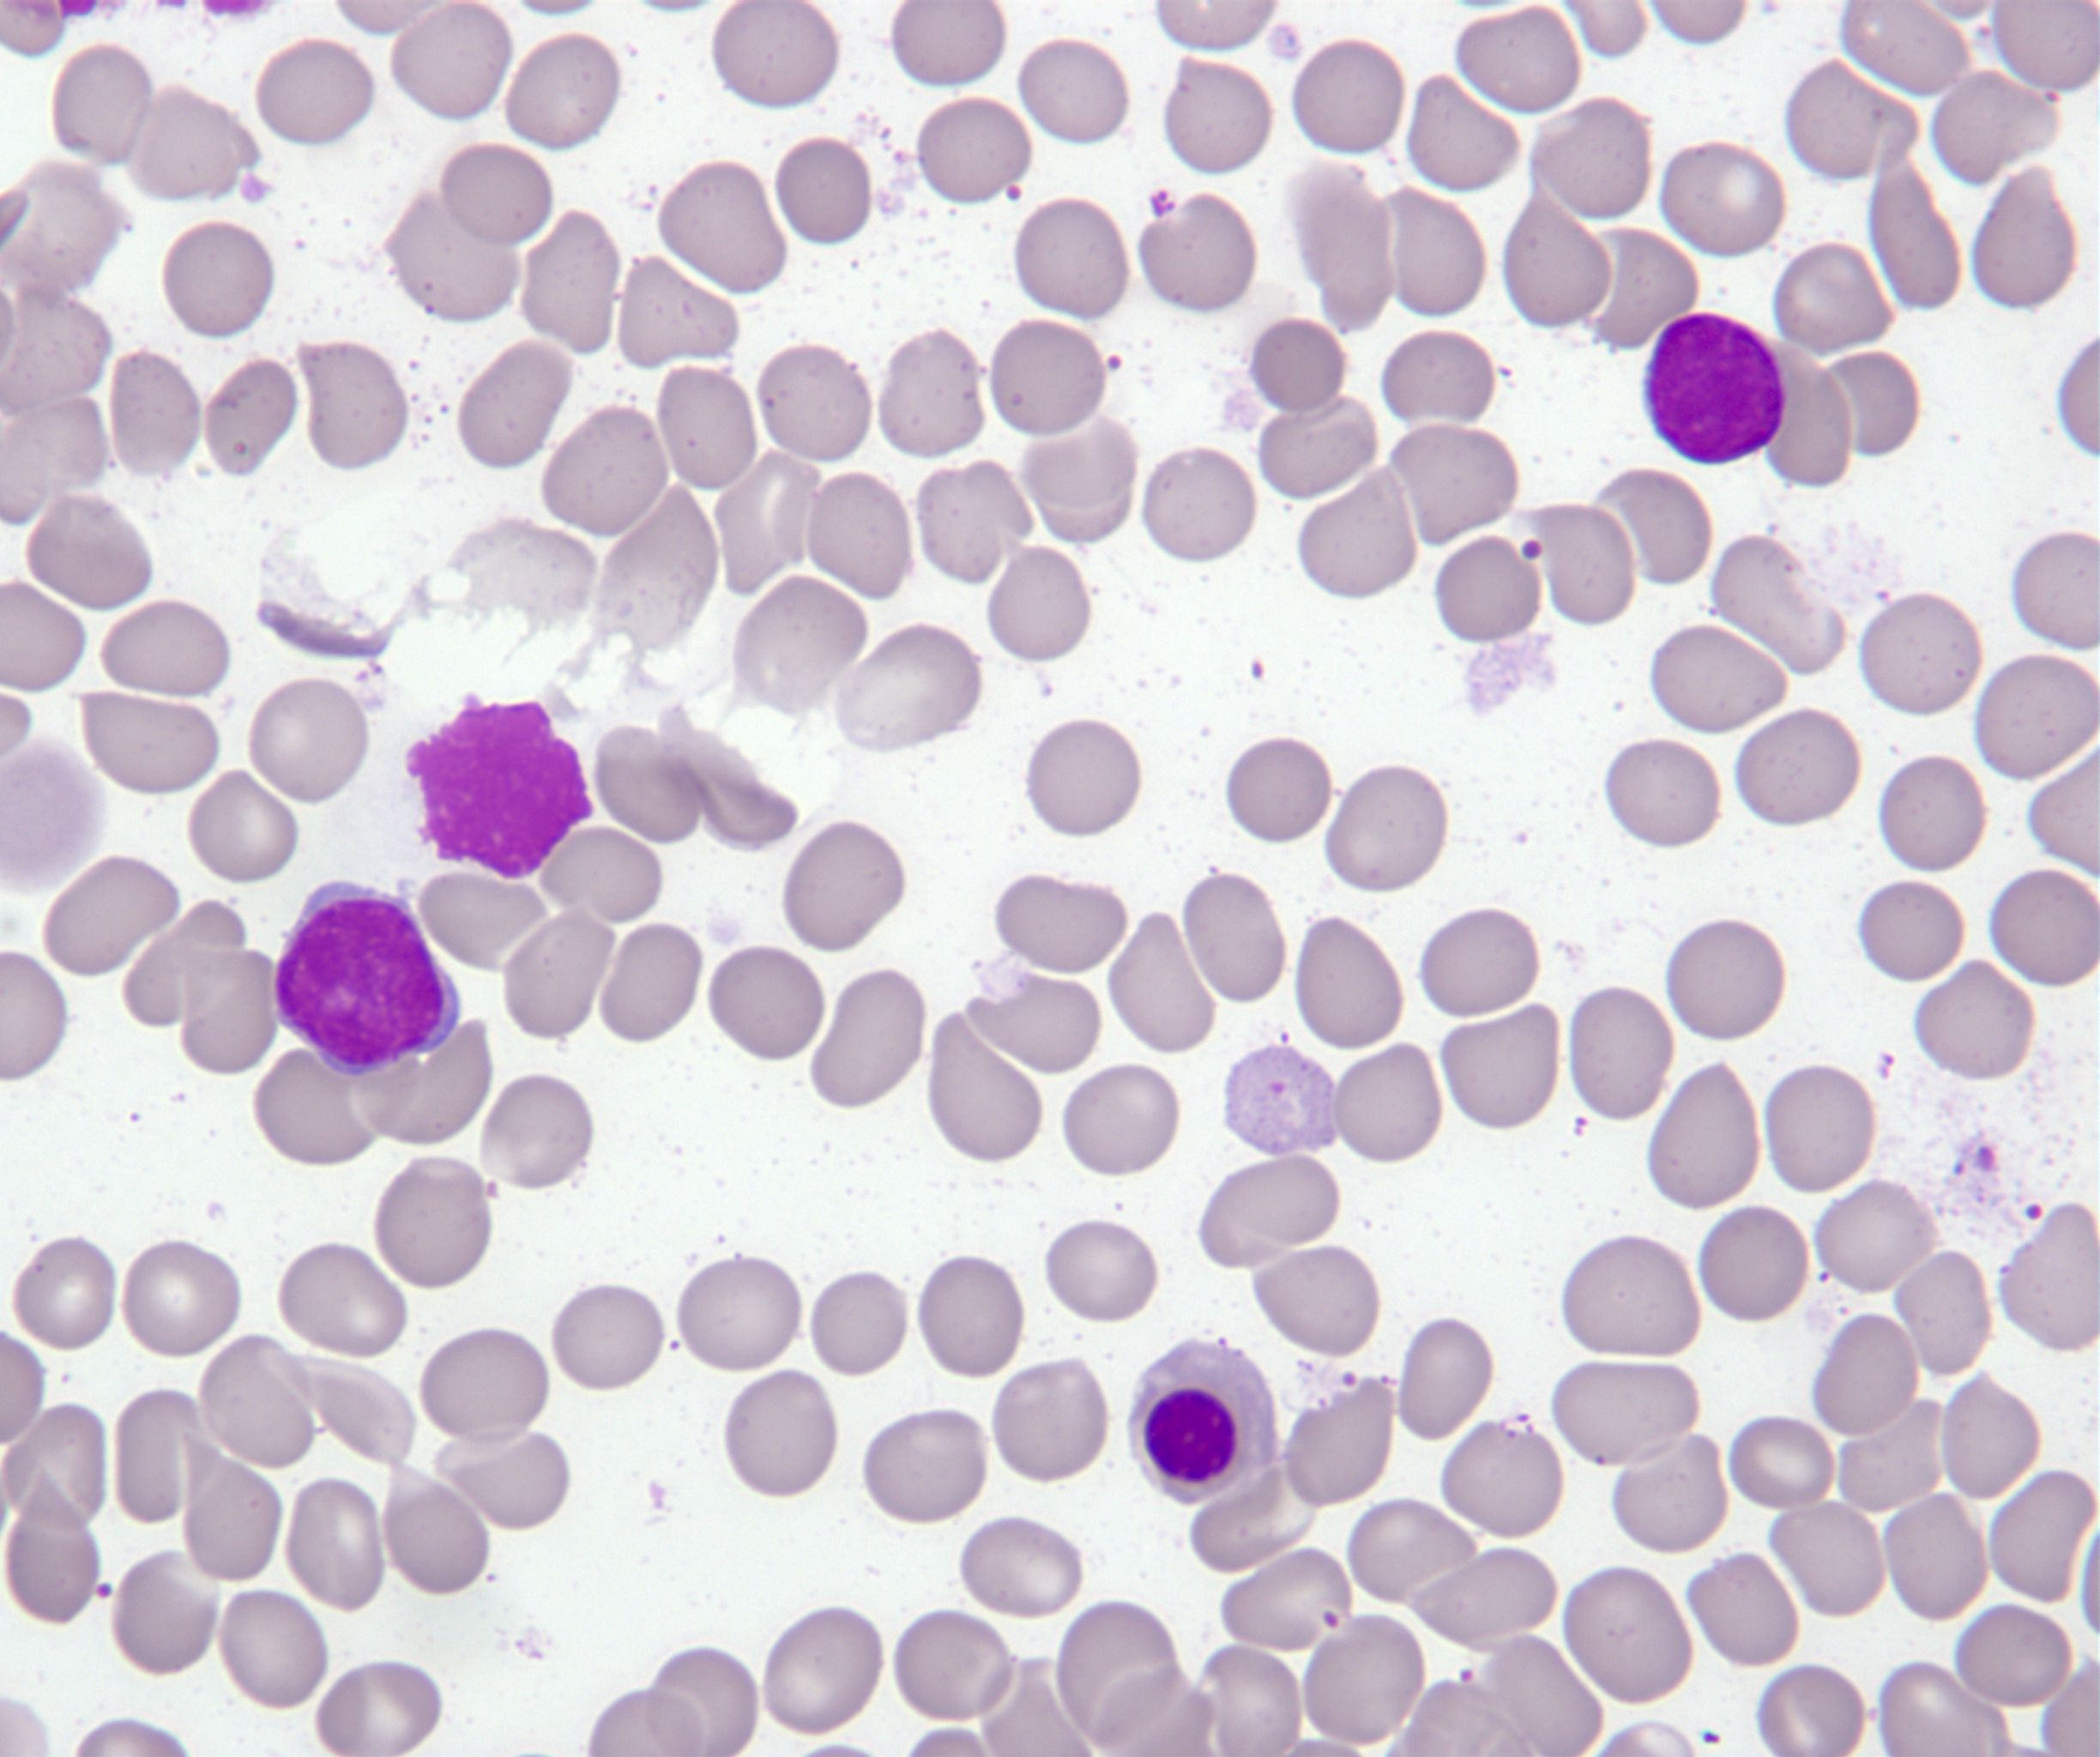24: (1123, 1335, 1280, 1509)
32: (267, 876, 462, 1084), (1638, 309, 1788, 468)
x: (401, 691, 597, 886)
